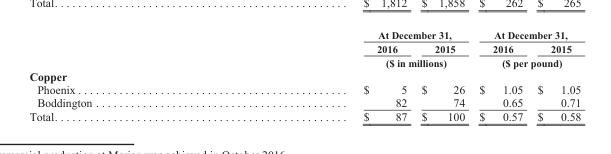table: (28, 29, 580, 122)
table column: (28, 29, 230, 122), (230, 29, 413, 122), (413, 29, 471, 122), (471, 29, 529, 122), (529, 29, 580, 122)
table column header: (28, 29, 580, 68)
table projected row header: (28, 68, 580, 82)
table row: (28, 41, 580, 55), (28, 68, 580, 82), (28, 95, 580, 109), (28, 55, 580, 68), (28, 82, 580, 95), (28, 109, 580, 122), (28, 29, 580, 41)
table spanning cell: (230, 55, 471, 68), (230, 29, 471, 41), (471, 55, 580, 68), (471, 29, 580, 41)
